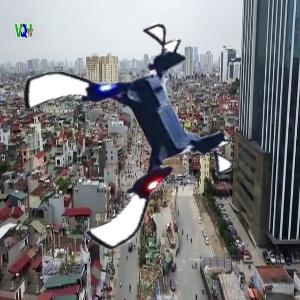drone: (34, 41, 229, 236)
